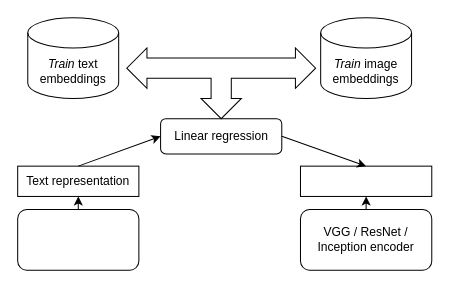
Some shapes in this 449 by 288 pixel diagram are drawn without their labels. Each missing label, with the centre of its shape:
BERT encoder: pixel 78 239
Image representation: pixel 365 180
